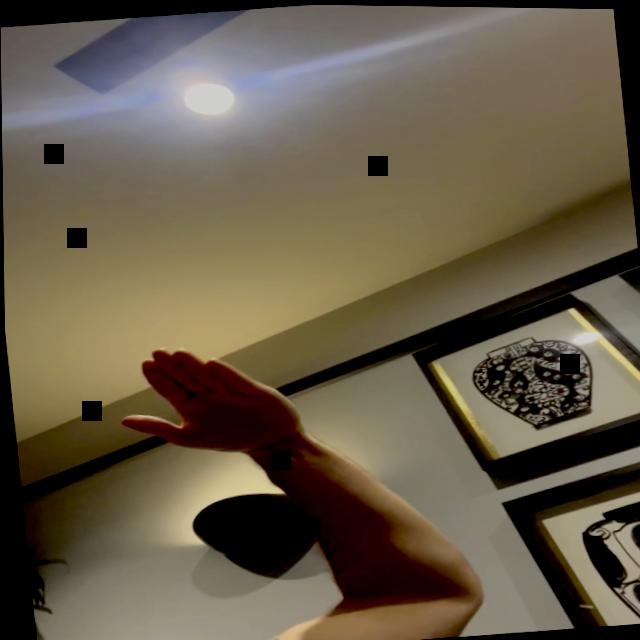Paper: (110, 334, 310, 465)
